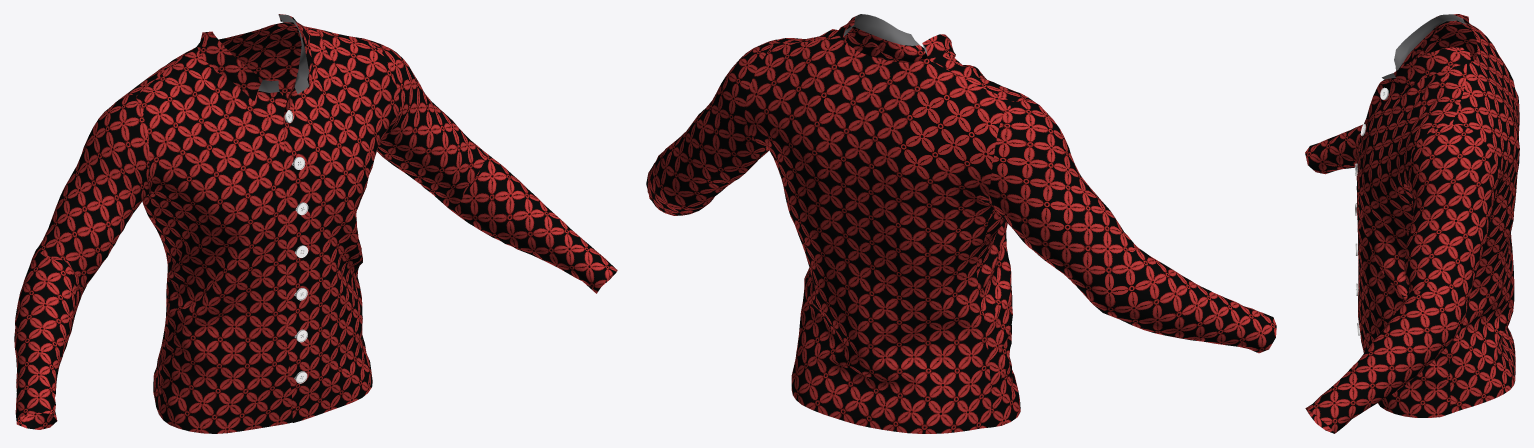
Rendered from Baju_Panjang.fbx.
The picture shows the model from 3 angles, left to right: view 1: azimuth 30°, elevation 25°; view 2: azimuth 150°, elevation 25°; view 3: azimuth 270°, elevation 25°; orthographic projection. The views are drawn at different scales.
Parts seen in each view (by area): view 1: Baju_Panjang; view 2: Baju_Panjang; view 3: Baju_Panjang.
Part boxes in pixels (x1=…): Baju_Panjang: x1=14, y1=14, x2=617, y2=433; Baju_Panjang: x1=646, y1=14, x2=1276, y2=433; Baju_Panjang: x1=1305, y1=14, x2=1519, y2=433.
Size of the model in its own units: 1060 by 619 by 349.
4 materials, 2 textured.
